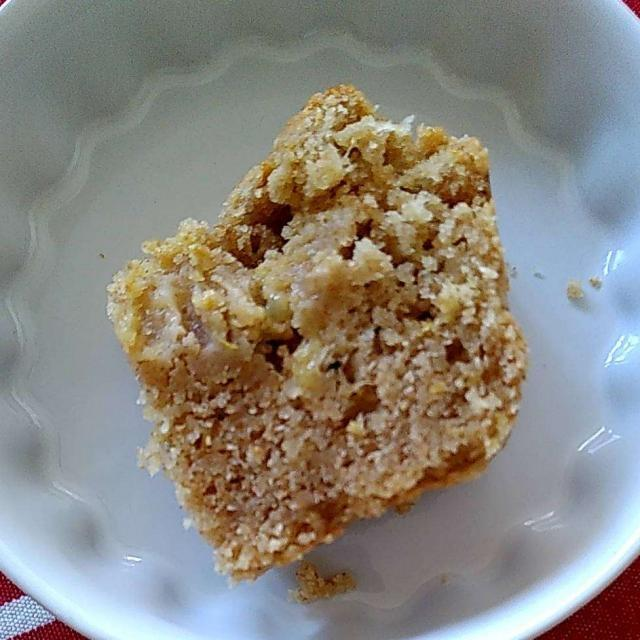cake: (116, 97, 518, 574)
